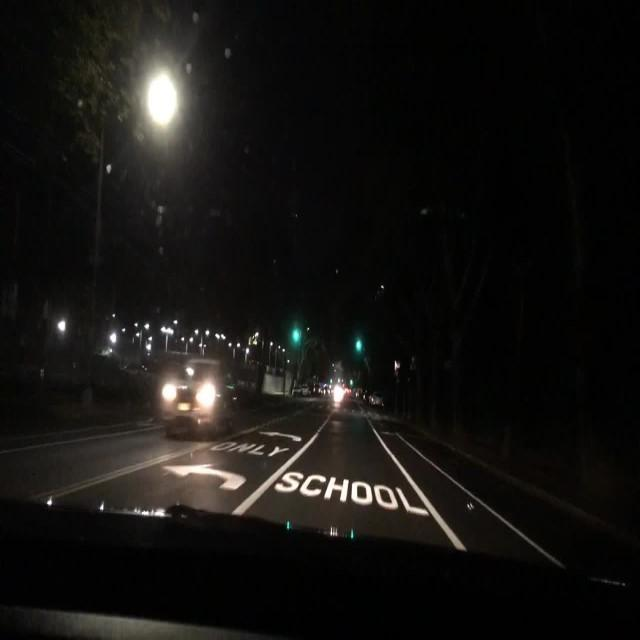normal: (146, 324, 257, 470)
